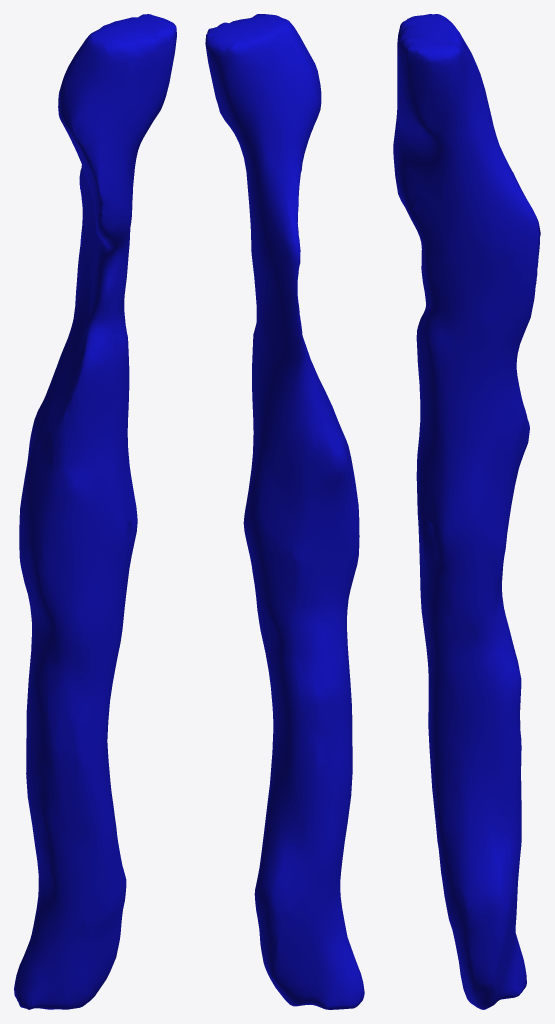
3 views of the same model, side by side, from view 1: azimuth 30°, elevation 25°; view 2: azimuth 210°, elevation 25°; view 3: azimuth 270°, elevation 25° (orthographic). The views are drawn at different scales.
Parts seen in each view (by area): view 1: Polygonal_Model_6_Triangles_0; view 2: Polygonal_Model_6_Triangles_0; view 3: Polygonal_Model_6_Triangles_0.
Boxes of the visible parts, <box> form: Polygonal_Model_6_Triangles_0: <box>14,14,176,1009</box>; Polygonal_Model_6_Triangles_0: <box>205,14,364,1009</box>; Polygonal_Model_6_Triangles_0: <box>393,14,540,1009</box>.
Bounding box in the file's own units: 1.41 × 10.31 × 1.39.
